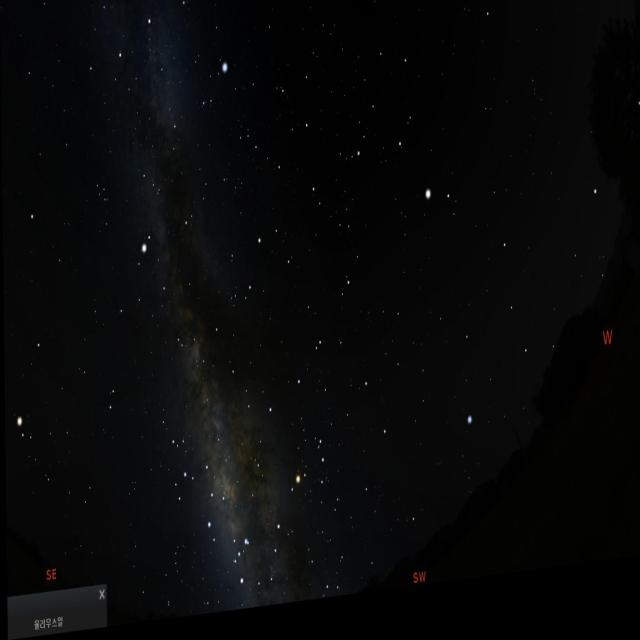aquila: (115, 206, 208, 376)
bootes: (372, 41, 472, 265)
cygnus: (112, 0, 193, 172)
lyra: (195, 54, 232, 120)
sagittarius: (147, 424, 236, 569)
scorpius: (233, 432, 336, 610)
